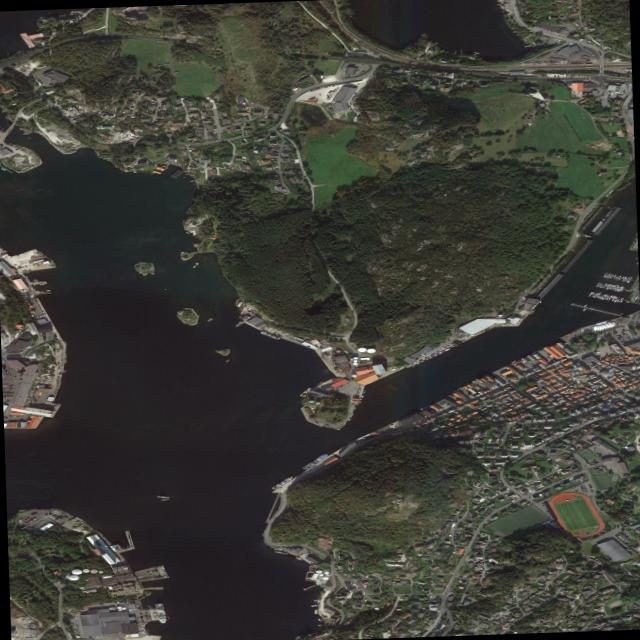large-vehicle: (421, 354, 425, 356), (583, 359, 586, 361), (362, 437, 365, 439), (522, 415, 524, 417), (332, 454, 334, 456), (515, 4, 516, 6)
ship: (302, 453, 329, 470), (271, 476, 294, 490), (155, 603, 167, 624), (260, 331, 280, 340), (274, 550, 288, 555), (237, 300, 243, 307), (316, 380, 324, 385), (295, 556, 303, 561), (157, 495, 169, 498), (529, 309, 535, 314), (160, 498, 169, 501), (444, 347, 450, 351), (428, 355, 433, 359), (438, 351, 444, 354), (347, 417, 351, 421), (582, 307, 586, 311), (613, 299, 617, 303), (3, 250, 8, 253), (420, 360, 425, 363), (433, 353, 438, 356), (450, 345, 455, 348), (317, 618, 322, 621), (314, 609, 317, 614), (475, 378, 479, 381), (416, 362, 420, 365), (412, 364, 416, 367), (583, 304, 587, 307), (511, 360, 515, 363), (0, 168, 6, 170), (39, 283, 45, 285), (180, 251, 186, 253), (21, 289, 27, 291), (604, 293, 607, 297), (620, 285, 624, 288), (616, 288, 619, 292), (614, 288, 618, 291), (605, 286, 609, 289), (626, 280, 630, 283), (629, 276, 633, 279), (588, 293, 591, 297), (424, 358, 429, 360), (317, 624, 327, 625), (24, 271, 29, 273), (22, 297, 27, 299), (22, 290, 27, 292), (362, 390, 365, 393), (509, 363, 512, 366), (595, 295, 598, 298), (617, 285, 620, 288), (615, 284, 618, 287), (613, 295, 616, 298), (612, 295, 615, 298), (613, 284, 616, 287), (618, 289, 621, 292), (595, 292, 598, 295), (623, 279, 626, 282), (616, 299, 619, 302), (607, 298, 610, 301), (605, 297, 608, 300), (616, 277, 619, 280), (600, 296, 603, 299), (597, 292, 600, 295), (621, 278, 624, 281), (483, 375, 487, 377), (471, 380, 475, 382), (193, 245, 197, 247), (0, 252, 4, 254), (406, 366, 410, 368), (20, 295, 28, 296), (20, 293, 24, 295), (60, 19, 64, 21), (189, 180, 193, 182), (601, 218, 605, 220), (625, 301, 629, 303), (609, 295, 613, 297), (428, 404, 431, 406), (453, 390, 456, 392), (490, 375, 493, 377), (466, 383, 469, 385), (456, 388, 459, 390), (238, 321, 241, 323), (36, 29, 42, 30), (165, 167, 168, 169), (0, 248, 3, 250), (38, 26, 41, 28), (446, 345, 449, 347), (361, 394, 363, 397), (533, 350, 536, 352), (425, 405, 428, 407), (424, 405, 427, 407), (423, 406, 426, 408), (421, 407, 424, 409), (419, 408, 422, 410), (1, 110, 4, 112), (30, 294, 32, 297), (311, 604, 317, 605), (33, 288, 35, 291), (353, 406, 355, 409), (608, 284, 611, 286), (620, 297, 623, 299), (622, 276, 625, 278), (604, 275, 607, 277), (606, 276, 609, 278), (607, 276, 610, 278), (615, 296, 617, 299), (606, 284, 609, 286), (607, 287, 610, 289), (613, 288, 616, 290), (352, 12, 355, 14), (539, 300, 541, 303), (477, 52, 480, 54), (473, 51, 476, 53), (612, 284, 614, 287), (603, 297, 606, 299), (624, 276, 627, 278), (590, 292, 593, 294), (601, 297, 604, 299), (598, 296, 601, 298), (593, 295, 596, 297), (45, 290, 50, 291), (33, 280, 38, 281), (24, 292, 28, 293), (351, 413, 353, 415), (447, 394, 449, 396), (28, 279, 30, 281), (36, 264, 38, 266), (33, 264, 35, 266), (164, 288, 166, 290), (359, 401, 361, 403), (350, 415, 352, 417), (71, 13, 73, 15), (277, 330, 279, 332), (317, 625, 321, 626), (64, 341, 66, 343), (35, 290, 39, 291), (74, 12, 76, 14), (75, 16, 77, 18), (33, 284, 37, 285), (33, 279, 37, 280), (22, 273, 24, 275), (27, 277, 29, 279), (608, 295, 610, 297), (610, 273, 612, 275), (598, 282, 600, 284), (600, 282, 602, 284), (620, 300, 622, 302), (618, 300, 620, 302), (613, 299, 615, 301), (611, 299, 613, 301), (592, 295, 594, 297), (615, 277, 617, 279), (603, 275, 605, 277), (605, 283, 607, 285), (622, 287, 624, 289), (605, 272, 607, 274), (614, 274, 616, 276), (592, 292, 594, 294), (608, 273, 610, 275), (435, 42, 437, 44), (619, 275, 621, 277), (612, 274, 614, 276), (350, 21, 352, 23), (460, 49, 462, 51), (596, 285, 598, 287), (603, 286, 605, 288), (620, 289, 622, 291), (611, 287, 613, 289), (610, 284, 612, 286), (65, 343, 67, 345), (597, 296, 599, 298), (25, 272, 29, 273), (5, 117, 8, 118), (311, 606, 314, 607), (65, 355, 66, 358), (72, 18, 75, 19), (61, 20, 64, 21), (607, 212, 610, 213), (604, 216, 607, 217), (606, 214, 609, 215), (605, 215, 608, 216), (582, 228, 585, 229), (601, 220, 604, 221), (602, 218, 605, 219), (601, 219, 604, 220), (511, 31, 514, 32), (435, 402, 437, 403), (459, 387, 461, 388), (183, 177, 185, 178), (29, 281, 31, 282), (25, 276, 27, 277), (444, 347, 446, 348), (420, 408, 422, 409), (448, 345, 450, 346), (360, 398, 361, 400), (5, 116, 7, 117), (6, 118, 8, 119), (123, 547, 125, 548), (65, 353, 66, 355), (21, 292, 23, 293), (77, 15, 79, 16), (78, 15, 80, 16), (76, 12, 78, 13), (7, 53, 9, 54), (21, 277, 22, 279), (636, 263, 638, 264), (622, 298, 624, 299), (606, 295, 608, 296), (619, 286, 620, 288), (617, 297, 619, 298), (607, 273, 609, 274), (636, 258, 638, 259), (635, 250, 637, 251), (610, 210, 612, 211), (614, 207, 616, 208), (607, 206, 609, 207), (628, 277, 630, 278), (625, 280, 627, 281), (603, 294, 604, 296), (606, 214, 608, 215), (620, 313, 622, 314), (511, 28, 513, 29), (512, 28, 514, 29), (462, 52, 463, 54), (599, 286, 601, 287), (601, 286, 603, 287), (0, 247, 1, 248), (127, 546, 128, 547), (79, 15, 80, 16), (76, 12, 77, 13), (23, 272, 24, 273), (626, 277, 627, 278), (619, 279, 620, 280), (614, 277, 615, 278), (585, 238, 586, 239), (610, 288, 611, 289), (610, 277, 611, 278), (599, 285, 600, 286), (598, 285, 599, 286), (7, 120, 8, 120), (609, 211, 612, 211)
small-vehicle: (530, 306, 533, 308), (523, 365, 526, 367), (50, 78, 53, 80), (46, 320, 49, 322), (29, 53, 32, 55), (519, 360, 522, 362), (615, 334, 618, 336), (447, 339, 450, 341), (575, 610, 578, 612), (543, 397, 546, 399), (543, 350, 545, 352), (564, 342, 566, 344), (575, 331, 577, 333), (548, 357, 550, 359), (523, 306, 525, 308), (548, 353, 550, 355), (419, 359, 421, 361), (420, 358, 422, 360), (547, 352, 549, 354), (425, 356, 427, 358), (526, 367, 528, 369), (526, 361, 528, 363), (439, 404, 441, 406), (241, 321, 243, 323), (542, 356, 544, 358), (19, 266, 21, 268), (477, 558, 479, 560), (537, 352, 539, 354), (472, 491, 474, 493), (437, 350, 439, 352), (458, 543, 460, 545), (436, 350, 438, 352), (433, 352, 435, 354), (350, 315, 352, 317), (521, 364, 523, 366), (500, 374, 502, 376), (545, 384, 547, 386), (543, 383, 545, 385), (381, 430, 383, 432), (527, 403, 529, 405), (538, 386, 540, 388), (563, 417, 565, 419), (627, 337, 629, 339), (379, 431, 381, 433), (388, 428, 390, 430), (399, 424, 401, 426), (394, 425, 396, 427), (391, 427, 393, 429), (432, 352, 434, 354), (329, 456, 331, 458), (377, 432, 379, 434), (392, 423, 394, 425), (387, 428, 389, 430), (344, 393, 346, 395), (600, 98, 602, 100), (145, 609, 147, 611), (324, 464, 326, 466), (139, 608, 141, 610), (140, 609, 142, 611), (136, 603, 138, 605), (137, 606, 139, 608), (15, 346, 17, 348), (19, 336, 21, 338), (2, 346, 4, 348), (5, 346, 7, 348), (66, 515, 68, 517), (8, 344, 10, 346), (24, 277, 26, 279), (311, 89, 313, 91), (313, 89, 315, 91), (16, 148, 18, 150), (12, 351, 14, 353), (39, 315, 41, 317), (12, 145, 14, 147), (215, 140, 217, 142), (211, 103, 213, 105), (62, 116, 64, 118), (15, 263, 17, 265), (34, 76, 36, 78), (37, 78, 39, 80), (42, 311, 44, 313), (127, 130, 129, 132), (20, 266, 22, 268), (267, 111, 269, 113), (18, 265, 20, 267), (575, 350, 577, 352), (442, 407, 444, 409), (521, 293, 523, 295), (333, 89, 335, 91), (329, 90, 331, 92), (630, 99, 632, 101), (549, 30, 551, 32), (546, 29, 548, 31), (543, 28, 545, 30), (570, 44, 572, 46), (553, 31, 555, 33), (319, 87, 321, 89), (628, 102, 630, 104), (550, 23, 552, 25), (513, 6, 515, 8), (553, 52, 555, 54), (528, 287, 530, 289), (518, 16, 520, 18), (527, 303, 529, 305), (553, 75, 555, 77), (590, 56, 592, 58), (571, 29, 573, 31), (597, 96, 599, 98), (602, 93, 604, 95), (614, 83, 616, 85), (617, 83, 619, 85), (626, 94, 628, 96), (625, 96, 627, 98), (579, 91, 581, 93), (576, 91, 578, 93), (569, 80, 571, 82), (568, 80, 570, 82), (566, 80, 568, 82), (565, 80, 567, 82), (363, 64, 365, 66), (588, 483, 590, 485), (579, 412, 581, 414), (583, 486, 585, 488), (569, 488, 571, 490), (583, 481, 585, 483), (580, 482, 582, 484), (570, 487, 572, 489), (617, 336, 619, 338), (482, 387, 484, 389), (465, 390, 467, 392), (440, 406, 442, 408), (580, 485, 582, 487), (629, 397, 631, 399), (630, 341, 632, 343), (627, 342, 629, 344), (620, 344, 622, 346), (621, 338, 623, 340), (619, 339, 621, 341), (611, 336, 613, 338), (624, 334, 626, 336), (584, 480, 586, 482), (498, 377, 500, 379), (558, 570, 560, 572), (628, 338, 630, 340), (627, 334, 629, 336), (613, 339, 615, 341), (509, 611, 511, 613), (613, 386, 615, 388), (592, 388, 594, 390), (584, 378, 586, 380), (503, 615, 505, 617), (632, 337, 634, 339), (633, 337, 635, 339), (636, 336, 638, 338), (637, 539, 639, 541), (515, 384, 517, 386), (630, 338, 632, 340), (530, 366, 533, 367), (546, 356, 549, 357), (356, 391, 359, 392), (355, 393, 358, 394), (531, 306, 534, 307), (397, 428, 400, 429), (304, 557, 307, 558), (72, 615, 75, 616), (29, 340, 32, 341), (139, 612, 142, 613), (131, 621, 134, 622), (79, 610, 82, 611), (139, 613, 142, 614), (15, 148, 18, 149), (79, 113, 82, 114), (148, 618, 151, 619), (328, 91, 331, 92), (584, 77, 587, 78), (573, 96, 576, 97), (573, 61, 574, 64), (605, 77, 608, 78), (607, 96, 610, 97), (622, 99, 625, 100), (357, 69, 360, 70), (589, 487, 592, 488), (586, 420, 589, 421), (583, 487, 586, 488), (582, 492, 585, 493), (620, 341, 623, 342), (575, 490, 578, 491), (604, 394, 607, 395), (491, 76, 494, 77), (593, 388, 596, 389), (525, 449, 528, 450), (627, 125, 628, 127), (357, 390, 359, 391), (532, 364, 534, 365), (531, 366, 533, 367), (571, 336, 572, 338), (565, 342, 567, 343), (578, 330, 580, 331), (552, 356, 554, 357), (549, 357, 551, 358), (453, 571, 454, 573), (529, 308, 531, 309), (350, 318, 352, 319), (525, 362, 527, 363), (470, 583, 471, 585), (524, 314, 526, 315), (432, 597, 434, 598), (540, 355, 542, 356), (539, 354, 541, 355), (539, 354, 541, 355), (503, 367, 504, 369), (505, 378, 507, 379), (423, 423, 425, 424), (467, 392, 469, 393), (437, 410, 439, 411), (477, 434, 479, 435), (585, 491, 587, 492), (250, 311, 252, 312), (247, 308, 249, 309), (441, 343, 443, 344), (507, 378, 508, 380), (538, 353, 540, 354), (438, 349, 439, 351), (431, 353, 433, 354), (585, 490, 587, 491), (434, 352, 436, 353), (478, 407, 480, 408), (541, 356, 543, 357), (430, 354, 432, 355), (445, 346, 447, 347), (209, 140, 211, 141), (502, 376, 504, 377), (544, 384, 546, 385), (535, 362, 537, 363), (573, 360, 575, 361), (577, 334, 579, 335), (618, 334, 620, 335), (628, 335, 630, 336), (574, 334, 576, 335), (534, 402, 536, 403), (626, 336, 628, 337), (537, 386, 539, 387), (573, 349, 575, 350), (561, 349, 563, 350), (587, 368, 589, 369), (585, 367, 587, 368), (593, 437, 595, 438), (385, 429, 386, 431), (542, 382, 543, 384), (620, 337, 622, 338), (619, 336, 621, 337), (618, 335, 620, 336), (623, 333, 625, 334), (380, 431, 382, 432), (430, 349, 432, 350), (406, 419, 408, 420), (399, 559, 401, 560), (347, 394, 348, 396), (382, 430, 384, 431), (443, 347, 445, 348), (378, 432, 380, 433), (376, 433, 378, 434), (388, 425, 390, 426), (389, 425, 391, 426), (429, 350, 431, 351), (390, 424, 391, 426), (428, 350, 430, 351), (428, 351, 430, 352), (349, 395, 350, 397), (250, 312, 252, 313), (181, 126, 183, 127), (140, 616, 142, 617), (306, 556, 308, 557), (135, 618, 136, 620), (323, 604, 324, 606), (321, 466, 323, 467), (30, 634, 32, 635), (30, 636, 32, 637), (280, 487, 282, 488), (40, 335, 42, 336), (5, 87, 7, 88), (132, 620, 134, 621), (141, 610, 143, 611), (145, 613, 147, 614), (145, 612, 147, 613), (141, 621, 143, 622), (141, 620, 143, 621), (141, 619, 143, 620), (140, 615, 142, 616), (141, 619, 143, 620), (140, 614, 142, 615), (141, 618, 143, 619), (153, 610, 155, 611), (4, 347, 5, 349), (14, 415, 15, 417), (18, 415, 19, 417), (94, 636, 96, 637), (308, 560, 310, 561), (27, 337, 29, 338), (9, 344, 11, 345), (10, 343, 12, 344), (11, 341, 13, 342), (13, 340, 15, 341), (86, 607, 88, 608), (14, 351, 15, 353), (4, 397, 6, 398), (16, 415, 18, 416), (20, 336, 22, 337), (7, 418, 9, 419), (32, 633, 34, 634), (98, 636, 100, 637), (18, 348, 20, 349), (95, 604, 96, 606), (21, 348, 23, 349), (11, 351, 12, 353), (211, 118, 213, 119), (314, 89, 316, 90), (315, 89, 317, 90), (317, 88, 318, 90), (318, 88, 320, 89), (294, 92, 295, 94), (4, 157, 5, 159), (16, 58, 18, 59), (47, 322, 49, 323), (145, 617, 147, 618), (145, 614, 147, 615), (84, 112, 86, 113), (309, 90, 311, 91), (37, 316, 39, 317), (42, 314, 43, 316), (42, 314, 44, 315), (44, 316, 46, 317), (44, 317, 46, 318), (36, 316, 37, 318), (310, 90, 312, 91), (281, 150, 283, 151), (282, 139, 283, 141), (22, 266, 23, 268), (247, 105, 249, 106), (39, 81, 41, 82), (36, 78, 38, 79), (39, 81, 41, 82), (74, 114, 76, 115), (217, 142, 219, 143), (149, 619, 151, 620), (148, 616, 150, 617), (19, 265, 21, 266), (252, 313, 254, 314), (245, 305, 246, 307), (270, 111, 271, 113), (42, 73, 44, 74), (38, 79, 40, 80), (148, 615, 150, 616), (38, 80, 40, 81), (40, 82, 42, 83), (17, 266, 19, 267), (17, 267, 18, 269), (146, 618, 148, 619), (622, 332, 624, 333), (596, 85, 598, 86), (628, 104, 630, 105), (323, 185, 325, 186), (330, 90, 332, 91), (328, 92, 330, 93), (327, 96, 329, 97), (327, 97, 329, 98), (326, 97, 328, 98), (358, 48, 359, 50), (334, 88, 336, 89), (549, 23, 550, 25), (627, 105, 629, 106), (519, 3, 520, 5), (608, 77, 610, 78), (571, 96, 573, 97), (595, 79, 597, 80), (593, 85, 595, 86), (594, 86, 596, 87), (593, 81, 595, 82), (594, 82, 596, 83), (595, 83, 597, 84), (595, 84, 597, 85), (571, 97, 573, 98), (545, 100, 547, 101), (630, 100, 632, 101), (476, 83, 477, 85), (550, 30, 551, 32), (544, 29, 546, 30), (552, 31, 554, 32), (461, 72, 463, 73), (321, 87, 323, 88), (441, 407, 443, 408), (324, 86, 325, 88), (583, 486, 585, 487), (534, 26, 536, 27), (571, 54, 573, 55), (538, 287, 540, 288), (533, 282, 534, 284), (523, 292, 525, 293), (558, 35, 560, 36), (540, 26, 542, 27), (539, 25, 540, 27), (538, 25, 539, 27), (18, 267, 20, 268), (571, 60, 572, 62), (620, 84, 622, 85), (572, 75, 573, 77), (571, 75, 572, 77), (570, 75, 571, 77), (566, 74, 567, 76), (555, 75, 556, 77), (572, 61, 573, 63), (597, 100, 598, 102), (592, 98, 594, 99), (629, 123, 631, 124), (594, 97, 596, 98), (630, 134, 631, 136), (600, 95, 601, 97), (603, 91, 605, 92), (596, 96, 597, 98), (598, 96, 600, 97), (629, 119, 631, 120), (604, 83, 606, 84), (607, 100, 609, 101), (609, 92, 611, 93), (608, 94, 610, 95), (608, 95, 610, 96), (607, 103, 609, 104), (620, 94, 622, 95), (620, 98, 622, 99), (624, 97, 626, 98), (608, 101, 610, 102), (615, 84, 617, 85), (612, 83, 613, 85), (578, 91, 579, 93), (575, 91, 576, 93), (575, 80, 577, 81), (579, 2, 580, 4), (572, 80, 574, 81), (579, 75, 580, 77), (357, 70, 359, 71), (541, 399, 543, 400), (591, 491, 593, 492), (591, 490, 593, 491), (591, 489, 593, 490), (589, 486, 591, 487), (589, 485, 591, 486), (589, 485, 591, 486), (588, 439, 590, 440), (582, 491, 584, 492), (542, 398, 544, 399), (608, 571, 610, 572), (571, 487, 573, 488), (579, 483, 581, 484), (578, 483, 579, 485), (582, 490, 584, 491), (577, 484, 579, 485), (575, 485, 576, 487), (591, 492, 593, 493), (576, 485, 578, 486), (580, 380, 582, 381), (581, 489, 583, 490), (570, 338, 571, 340), (621, 341, 623, 342), (520, 422, 522, 423), (581, 488, 583, 489), (581, 487, 583, 488), (581, 486, 583, 487), (584, 489, 586, 490), (622, 340, 624, 341), (513, 409, 514, 411), (575, 489, 577, 490), (482, 387, 484, 388), (446, 404, 448, 405), (349, 316, 351, 317), (619, 339, 621, 340), (618, 338, 620, 339), (583, 485, 585, 486), (617, 337, 619, 338), (606, 572, 608, 573), (584, 488, 586, 489), (434, 619, 436, 620), (637, 551, 639, 552), (542, 504, 544, 505), (541, 502, 543, 503), (539, 489, 541, 490), (604, 570, 606, 571), (606, 569, 608, 570), (630, 396, 631, 398), (622, 344, 624, 345), (632, 341, 633, 343), (628, 342, 630, 343), (626, 343, 628, 344), (624, 343, 625, 345), (625, 333, 627, 334), (625, 335, 627, 336), (629, 331, 631, 332), (319, 93, 321, 94), (464, 79, 466, 80), (325, 86, 326, 88), (520, 587, 521, 589), (329, 85, 330, 87), (326, 86, 328, 87), (417, 57, 419, 58), (587, 479, 588, 481), (430, 45, 431, 47), (500, 379, 502, 380), (424, 357, 426, 358), (632, 396, 634, 397), (503, 629, 504, 631), (498, 613, 500, 614), (585, 480, 587, 481), (548, 410, 550, 411), (340, 386, 342, 387), (504, 381, 506, 382), (624, 533, 625, 535), (636, 550, 638, 551), (67, 516, 68, 518), (620, 391, 622, 392), (248, 311, 250, 312), (248, 310, 250, 311), (609, 538, 611, 539), (346, 382, 348, 383), (582, 482, 584, 483), (355, 394, 357, 395), (431, 592, 432, 593), (526, 313, 527, 314), (445, 589, 446, 590), (463, 555, 464, 556), (442, 404, 443, 405), (501, 375, 502, 376), (450, 405, 451, 406), (537, 352, 538, 353), (548, 353, 549, 354), (440, 349, 441, 350), (483, 568, 484, 569), (437, 616, 438, 617), (512, 393, 513, 394), (543, 383, 544, 384), (386, 429, 387, 430), (603, 98, 604, 99), (405, 419, 406, 420), (390, 428, 391, 429), (419, 360, 420, 361), (348, 395, 349, 396), (346, 394, 347, 395), (407, 418, 408, 419), (427, 356, 428, 357), (377, 621, 378, 622), (391, 603, 392, 604), (391, 424, 392, 425), (343, 393, 344, 394), (307, 559, 308, 560), (129, 612, 130, 613), (135, 616, 136, 617), (8, 84, 9, 85), (96, 608, 97, 609), (139, 608, 140, 609), (282, 549, 283, 550), (141, 617, 142, 618), (306, 558, 307, 559), (5, 347, 6, 348), (58, 98, 59, 99), (14, 339, 15, 340), (319, 606, 320, 607), (24, 416, 25, 417), (94, 608, 95, 609), (48, 332, 49, 333), (41, 315, 42, 316), (14, 264, 15, 265), (431, 349, 432, 350), (112, 127, 113, 128), (23, 266, 24, 267), (282, 117, 283, 118), (284, 128, 285, 129), (639, 331, 640, 332), (630, 118, 631, 119), (327, 94, 328, 95), (584, 24, 585, 25), (576, 53, 577, 54), (333, 85, 334, 86), (551, 31, 552, 32), (543, 40, 544, 41), (512, 0, 513, 1), (527, 289, 528, 290), (573, 53, 574, 54), (622, 68, 623, 69), (583, 75, 584, 76), (575, 62, 576, 63), (573, 75, 574, 76), (600, 68, 601, 69), (590, 58, 591, 59), (602, 57, 603, 58), (606, 83, 607, 84), (632, 139, 633, 140), (636, 242, 637, 243), (600, 99, 601, 100), (599, 100, 600, 101), (601, 95, 602, 96), (602, 94, 603, 95), (607, 83, 608, 84), (626, 96, 627, 97), (578, 75, 579, 76), (573, 91, 574, 92), (571, 91, 572, 92), (582, 75, 583, 76), (584, 75, 585, 76), (362, 64, 363, 65), (584, 382, 585, 383), (527, 397, 528, 398), (574, 486, 575, 487), (581, 482, 582, 483), (599, 392, 600, 393), (625, 343, 626, 344), (538, 433, 539, 434), (633, 341, 634, 342), (428, 46, 429, 47), (332, 85, 333, 86), (427, 46, 428, 47), (521, 588, 522, 589), (448, 404, 449, 405), (604, 380, 605, 381), (585, 465, 586, 466), (639, 552, 640, 553), (436, 569, 438, 569), (579, 334, 582, 334), (355, 395, 357, 395), (284, 549, 284, 550), (135, 618, 136, 618), (79, 552, 81, 552), (145, 618, 148, 618), (145, 614, 147, 614), (244, 117, 244, 118), (629, 119, 631, 119), (570, 78, 572, 78), (573, 95, 575, 95), (570, 95, 572, 95), (629, 122, 631, 122), (607, 98, 609, 98), (581, 75, 581, 77), (581, 489, 583, 489), (357, 601, 360, 601), (358, 602, 360, 602), (615, 397, 617, 397)
storage-tank: (71, 569, 82, 575), (68, 574, 78, 580), (357, 347, 366, 352), (82, 568, 90, 573), (367, 348, 375, 353), (90, 569, 97, 573), (127, 582, 133, 586), (316, 569, 322, 573), (322, 576, 328, 580), (309, 399, 314, 403), (123, 586, 129, 589), (352, 362, 358, 365), (16, 324, 22, 327), (98, 570, 103, 573), (116, 584, 121, 587), (122, 583, 127, 586), (129, 586, 134, 589), (324, 571, 329, 574), (352, 374, 357, 377), (30, 310, 35, 313), (498, 314, 502, 317), (117, 606, 121, 609), (118, 608, 122, 611), (316, 401, 320, 404), (335, 350, 341, 352), (325, 574, 329, 577), (319, 573, 323, 576), (353, 357, 358, 359), (122, 607, 126, 609), (29, 305, 33, 307), (26, 302, 30, 304), (353, 360, 357, 362), (25, 300, 29, 302), (19, 327, 22, 329), (350, 358, 353, 360), (31, 314, 34, 316)
